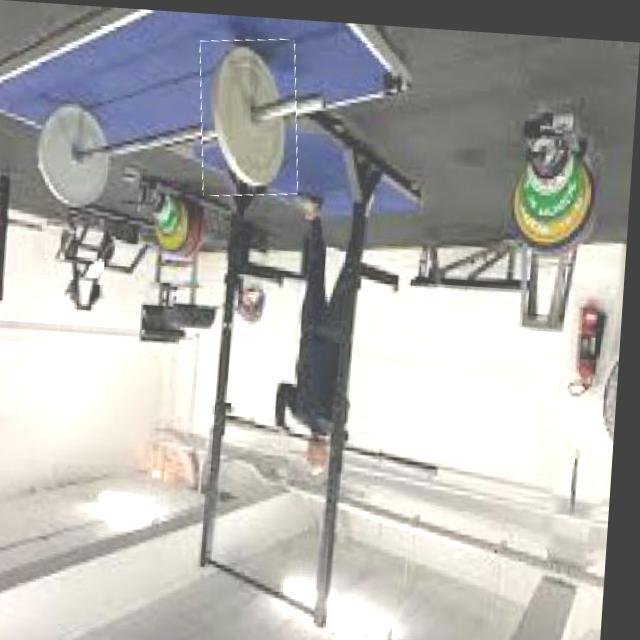barbell: (197, 33, 306, 196)
